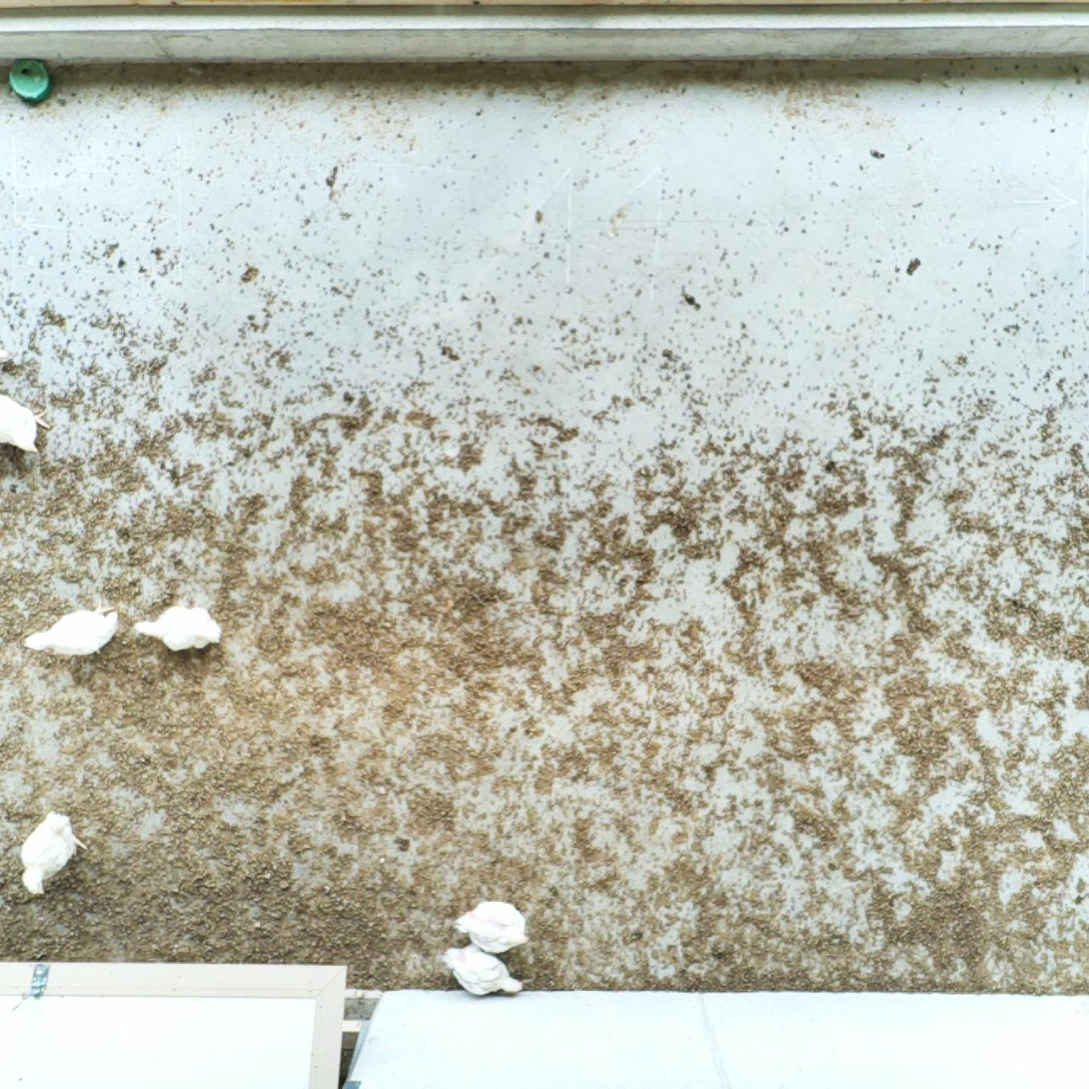chicken: (20, 809, 89, 901), (439, 943, 526, 1002), (133, 601, 225, 656), (26, 605, 119, 658), (452, 893, 529, 956), (0, 383, 53, 453)
